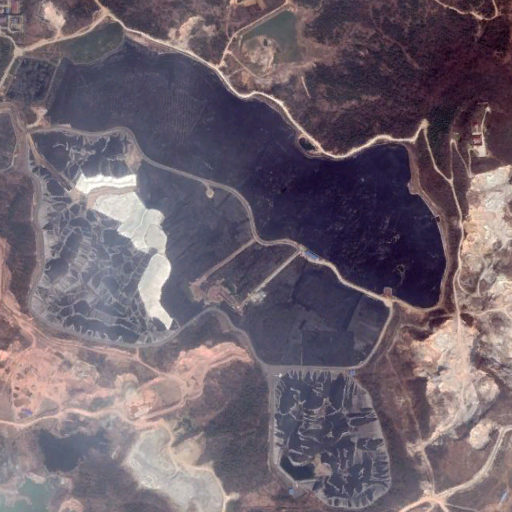lf: (24, 36, 448, 512)
